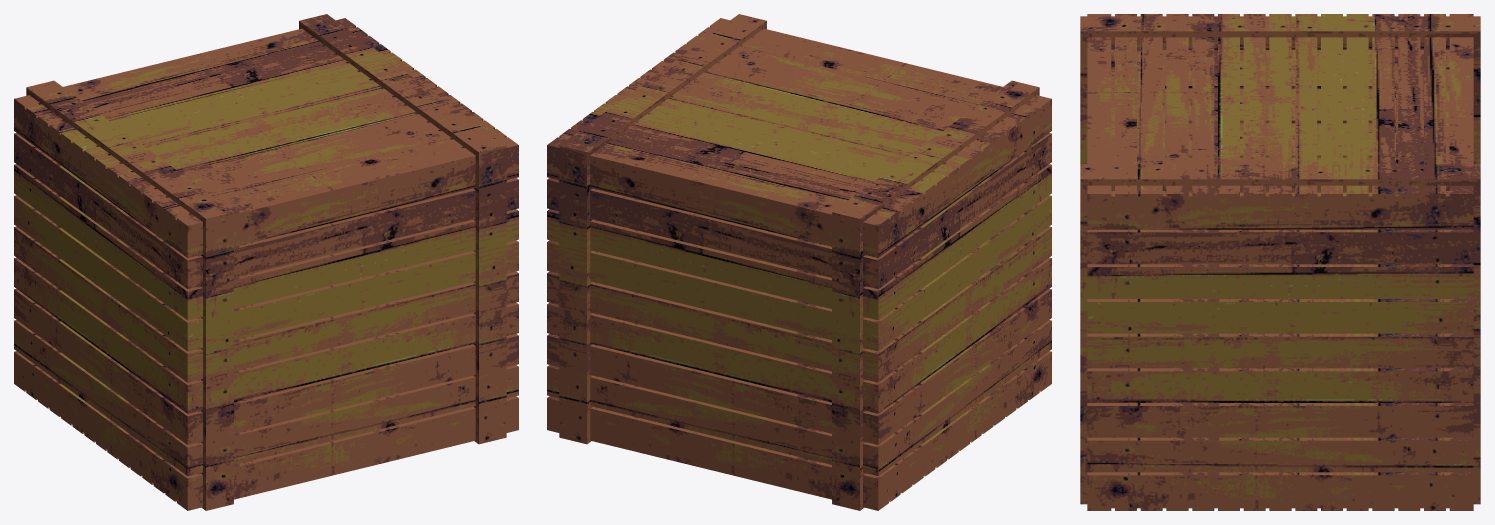
File: Wooden Crate 2.fbx
3 renders of one model, left to right at view 1: azimuth 30°, elevation 25°; view 2: azimuth 150°, elevation 25°; view 3: azimuth 270°, elevation 25°, orthographic. The views are drawn at different scales.
Parts seen in each view (by area): view 1: Cube.015; view 2: Cube.015; view 3: Cube.015.
Part boxes in pixels (x1,y1,x2,y2): Cube.015: [14, 14, 518, 510]; Cube.015: [547, 14, 1051, 510]; Cube.015: [1080, 14, 1480, 510].
Size of the model in its own units: 220 by 186 by 207.
